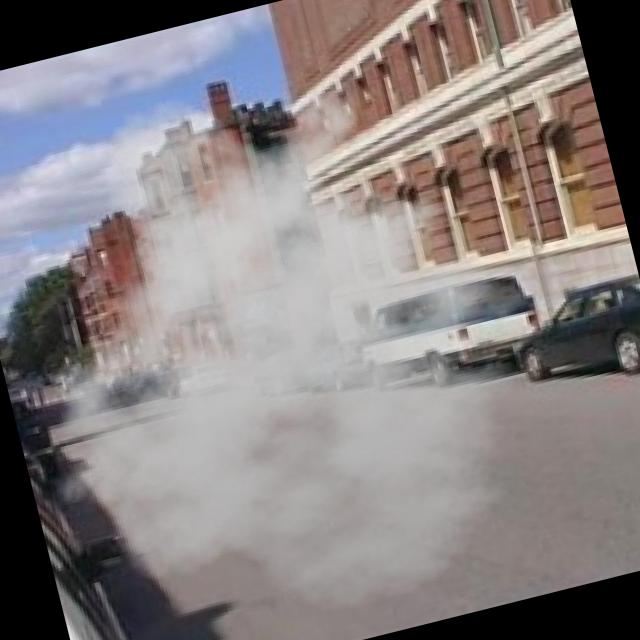Smoke: (0, 17, 617, 640)
